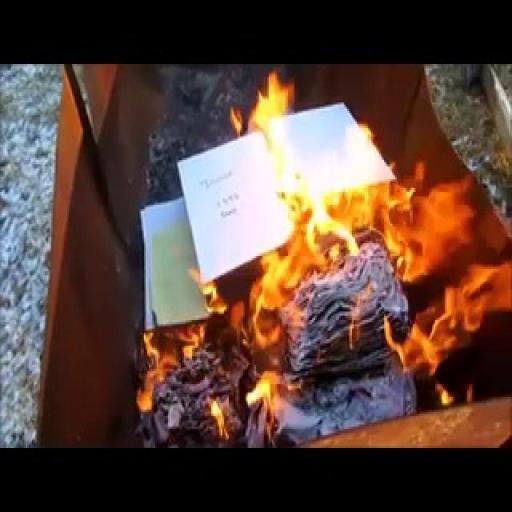smoke: (230, 63, 461, 344), (130, 314, 208, 422)
